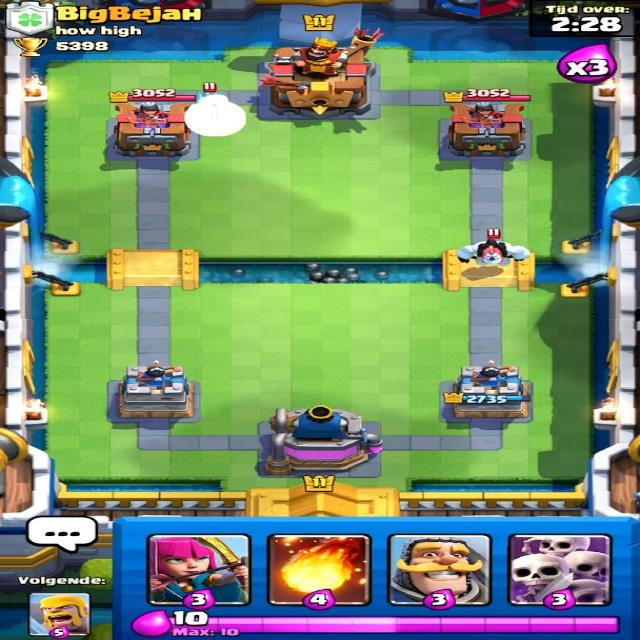Enemy_Ice_Golem_Troop: (450, 234, 539, 276)
Fireball_Card: (276, 534, 366, 605)
